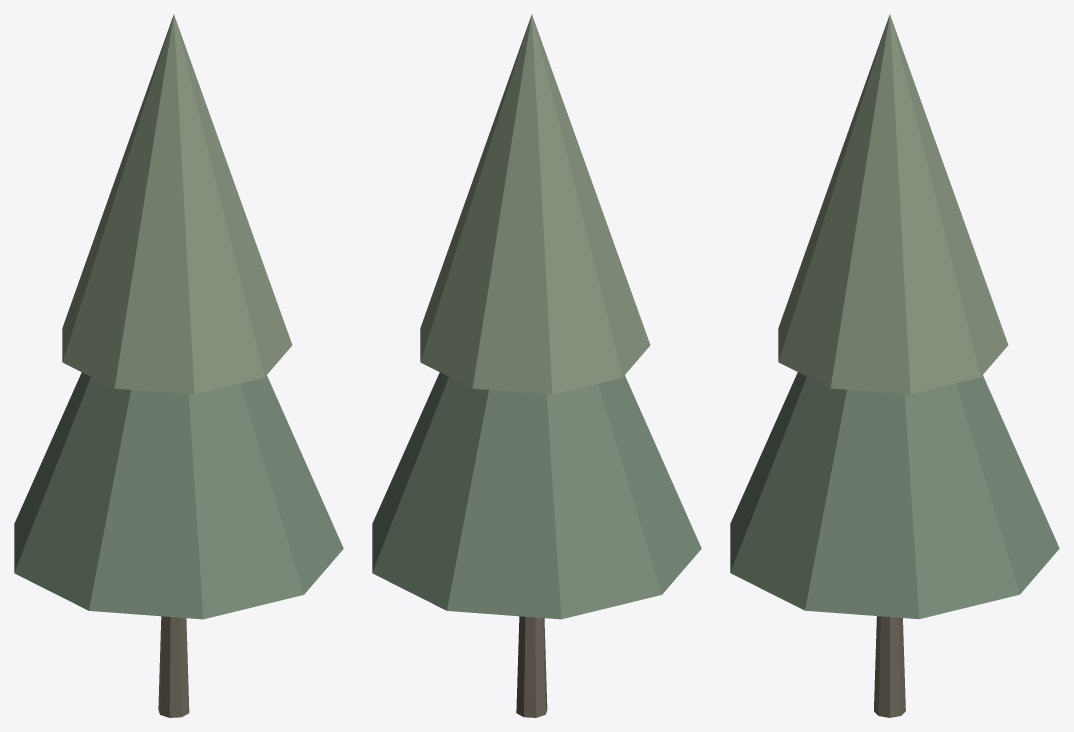
The model's file is tree.glb.
3 renders of one model, left to right at view 1: azimuth 30°, elevation 25°; view 2: azimuth 150°, elevation 25°; view 3: azimuth 270°, elevation 25°, orthographic.
Visible parts, largest first — view 1: tree; view 2: tree; view 3: tree.
Boxes of the visible parts, x1,y1,x2,y2 form: tree: [14, 14, 343, 717]; tree: [372, 14, 701, 717]; tree: [730, 14, 1059, 717].
Size of the model in its own units: 5.22 by 12 by 5.14.
